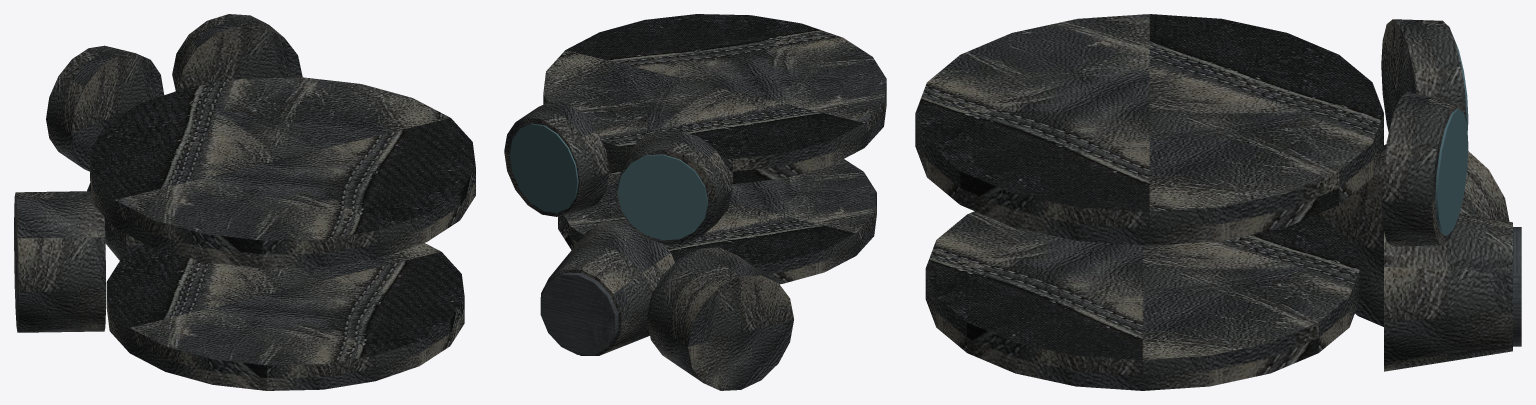
The model's file is ct_gasmask.glb.
3 views of the same model, side by side, from view 1: azimuth 30°, elevation 25°; view 2: azimuth 150°, elevation 25°; view 3: azimuth 270°, elevation 25° (orthographic). The views are drawn at different scales.
Parts seen in each view (by area): view 1: strap_up, strap_low, filter_can, rim_-1.35, rim_1.35, snout; view 2: strap_up, strap_low, filter_can, snout, lens_-1.35, grille, rim_1.35, lens_1.35, rim_-1.35; view 3: strap_up, strap_low, snout, rim_1.35, filter_can, rim_-1.35, lens_1.35, grille.
Part boxes in pixels (bbox=[...]): strap_up: bbox=[90, 77, 475, 268]; strap_low: bbox=[106, 243, 464, 390]; filter_can: bbox=[14, 191, 105, 332]; rim_-1.35: bbox=[46, 45, 164, 171]; rim_1.35: bbox=[172, 14, 302, 90]; snout: bbox=[88, 185, 144, 260]; strap_up: bbox=[543, 14, 886, 184]; strap_low: bbox=[558, 159, 876, 284]; filter_can: bbox=[647, 247, 793, 390]; snout: bbox=[541, 221, 674, 355]; lens_-1.35: bbox=[617, 154, 708, 240]; grille: bbox=[540, 273, 618, 355]; rim_1.35: bbox=[504, 101, 609, 216]; lens_1.35: bbox=[510, 123, 578, 213]; rim_-1.35: bbox=[616, 130, 732, 244]; strap_up: bbox=[915, 14, 1383, 245]; strap_low: bbox=[925, 211, 1360, 390]; snout: bbox=[1384, 214, 1512, 371]; rim_1.35: bbox=[1381, 91, 1462, 246]; filter_can: bbox=[1318, 144, 1509, 326]; rim_-1.35: bbox=[1381, 19, 1466, 132]; lens_1.35: bbox=[1435, 108, 1468, 235]; grille: bbox=[1513, 227, 1521, 346].
Size of the model in its own units: 7.07 by 5.1 by 8.93.
Materials: 3 (2 with a texture image).
